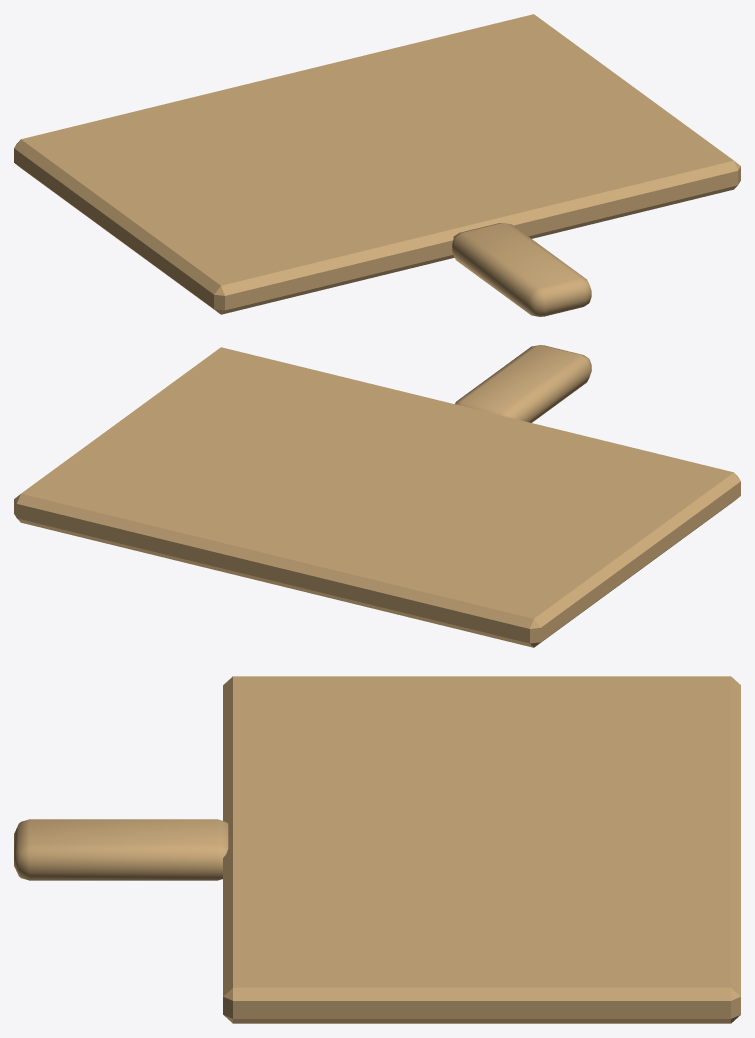
The model's file is i_board_0.glb.
3 renders of one model, top to bottom at view 1: azimuth 30°, elevation 25°; view 2: azimuth 150°, elevation 25°; view 3: azimuth 270°, elevation 25°, orthographic. The views are drawn at different scales.
Visible parts, largest first — view 1: o, o.001; view 2: o, o.001; view 3: o, o.001.
Part boxes in pixels (left/top/right/bottom): o: left=14, top=14, right=740, bottom=314; o.001: left=452, top=223, right=591, bottom=316; o: left=14, top=347, right=740, bottom=647; o.001: left=455, top=345, right=591, bottom=422; o: left=223, top=676, right=740, bottom=1023; o.001: left=14, top=819, right=228, bottom=880.
Size of the model in its own units: 0.38 by 0.02 by 0.365.
